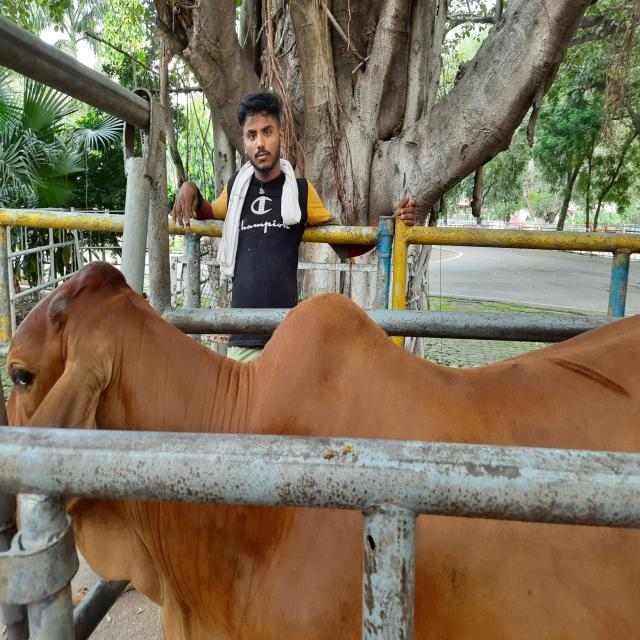cow: (5, 259, 639, 639)
hump: (251, 293, 420, 360)
